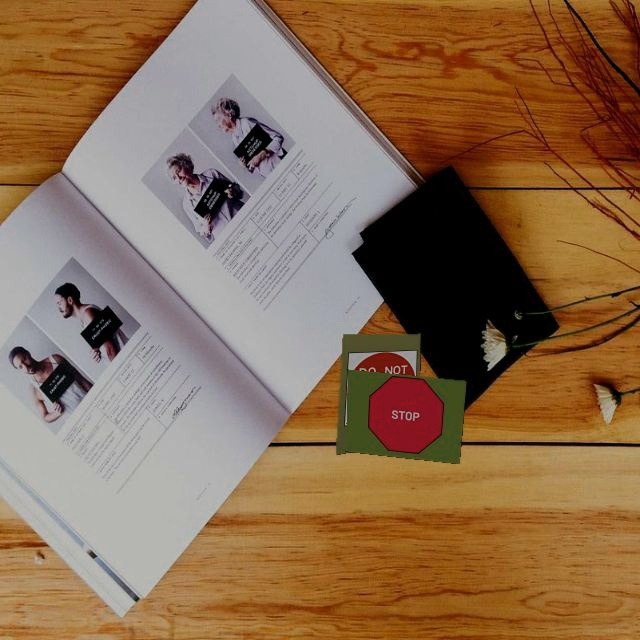DO_NOT_ENTER: (344, 350, 417, 426)
STOP: (365, 373, 446, 456)
